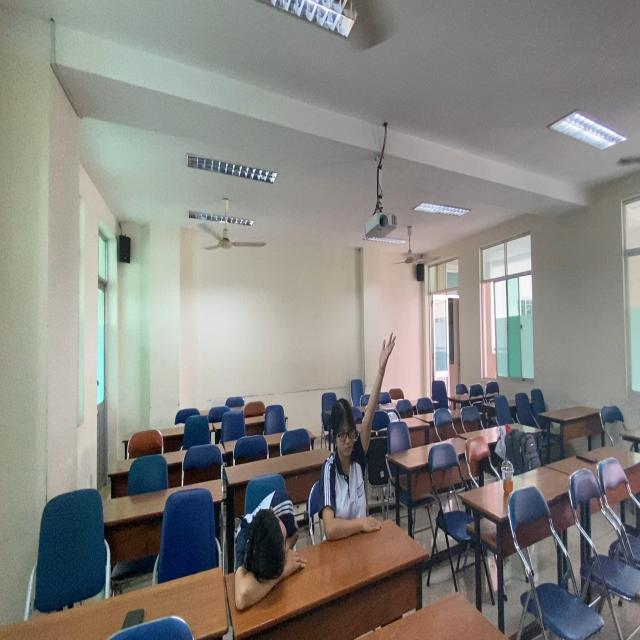raise_hand: (322, 329, 400, 530)
sleep: (228, 487, 303, 615)
